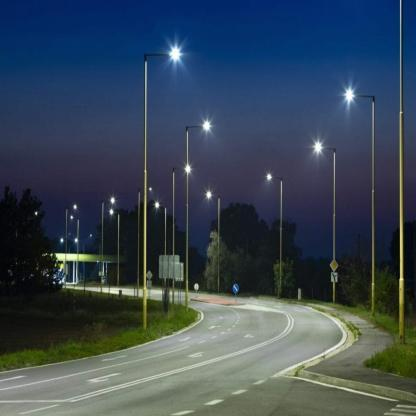light_pole: (143, 49, 180, 333), (344, 88, 376, 314), (185, 121, 211, 311), (313, 143, 338, 303), (171, 165, 191, 303), (267, 173, 284, 298), (100, 198, 115, 294), (207, 191, 221, 292), (65, 204, 77, 292), (155, 202, 167, 286), (110, 209, 120, 285)
